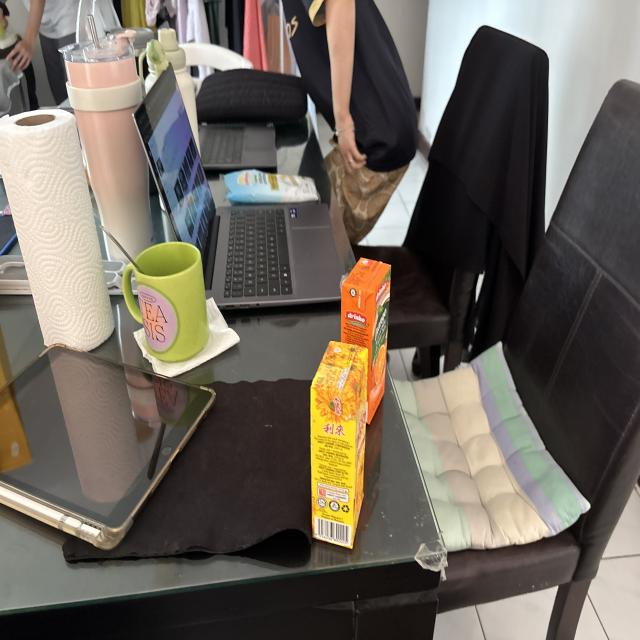drink_carton: (305, 336, 372, 556), (338, 252, 396, 429)
